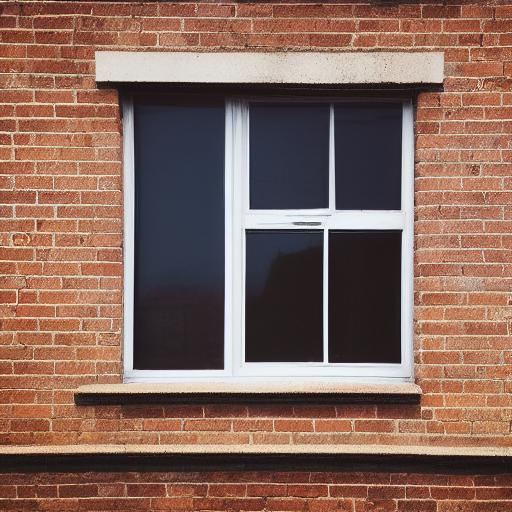Window: (75, 48, 451, 403)
